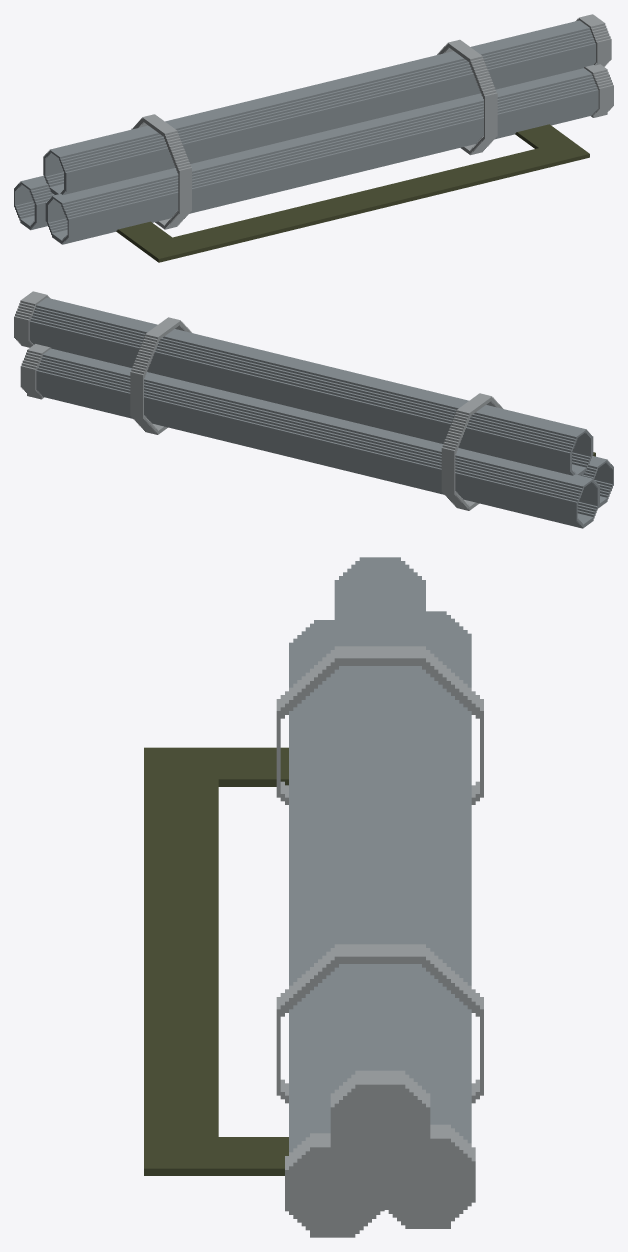
Rendered from pipe_quiver_large.glb.
3 views of the same model, one above another, from view 1: azimuth 30°, elevation 25°; view 2: azimuth 150°, elevation 25°; view 3: azimuth 270°, elevation 25° (orthographic). The views are drawn at different scales.
Visible parts, largest first — view 1: pipe_quiver_large:compound; view 2: pipe_quiver_large:compound; view 3: pipe_quiver_large:compound.
Part boxes in pixels (bbox=[...]): pipe_quiver_large:compound: bbox=[14, 14, 613, 262]; pipe_quiver_large:compound: bbox=[14, 291, 613, 528]; pipe_quiver_large:compound: bbox=[144, 557, 483, 1237].
Size of the model in its own units: 0.626 by 0.102 by 0.164.
